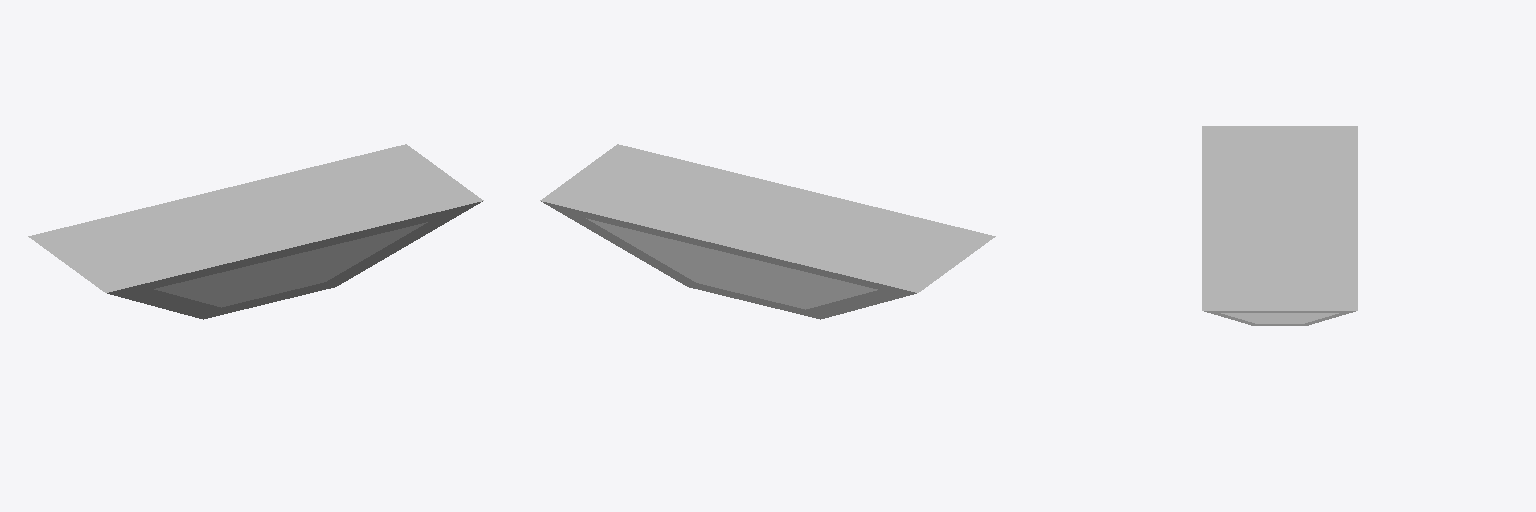
The model's file is Final_ceilMat.obj.
3 views of the same model, side by side, from view 1: azimuth 30°, elevation 25°; view 2: azimuth 150°, elevation 25°; view 3: azimuth 270°, elevation 25° (orthographic).
Visible parts, largest first — view 1: Object_4.001_Object_0.001, Object_5_Object_1.001; view 2: Object_4.001_Object_0.001, Object_5_Object_1.001; view 3: Object_4.001_Object_0.001, Object_5_Object_1.001.
Part boxes in pixels (bbox=[...]): Object_4.001_Object_0.001: bbox=[28, 144, 483, 319]; Object_5_Object_1.001: bbox=[154, 222, 427, 307]; Object_4.001_Object_0.001: bbox=[540, 144, 995, 319]; Object_5_Object_1.001: bbox=[586, 218, 877, 309]; Object_4.001_Object_0.001: bbox=[1202, 126, 1357, 325]; Object_5_Object_1.001: bbox=[1221, 313, 1338, 323].
Size of the model in its own units: 10.39 by 1.96 by 3.69.